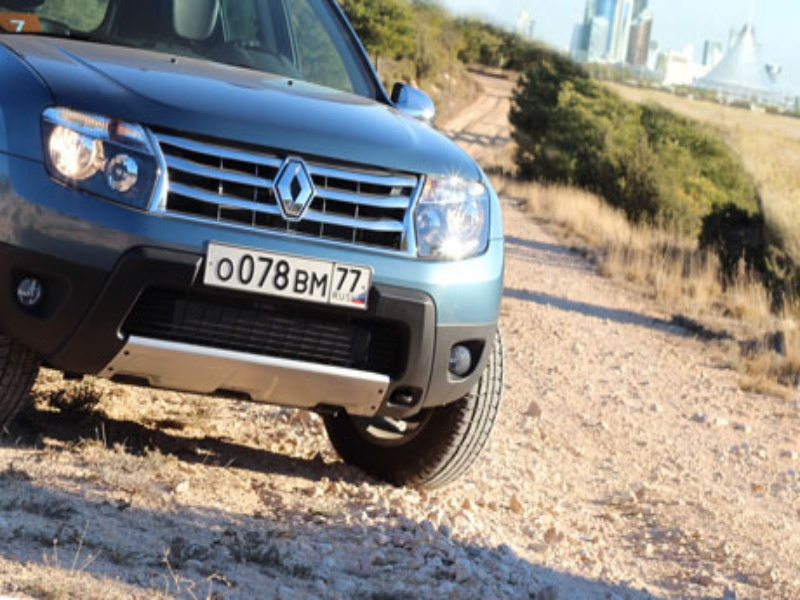car: (1, 1, 504, 489)
plate: (204, 241, 368, 309)
